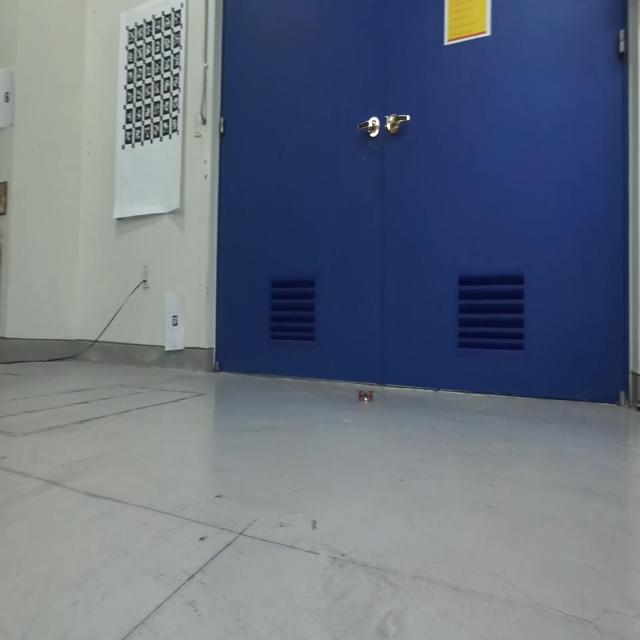crazyflie: (355, 384, 375, 405)
